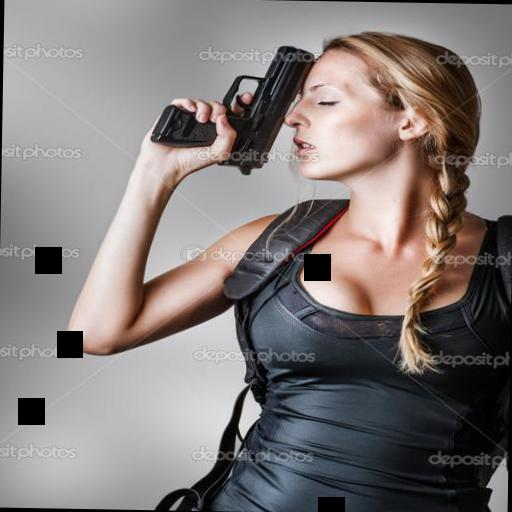Handgun: (130, 43, 316, 174)
